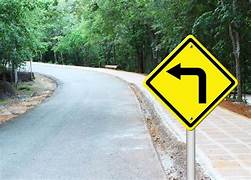left: (144, 33, 239, 131)
